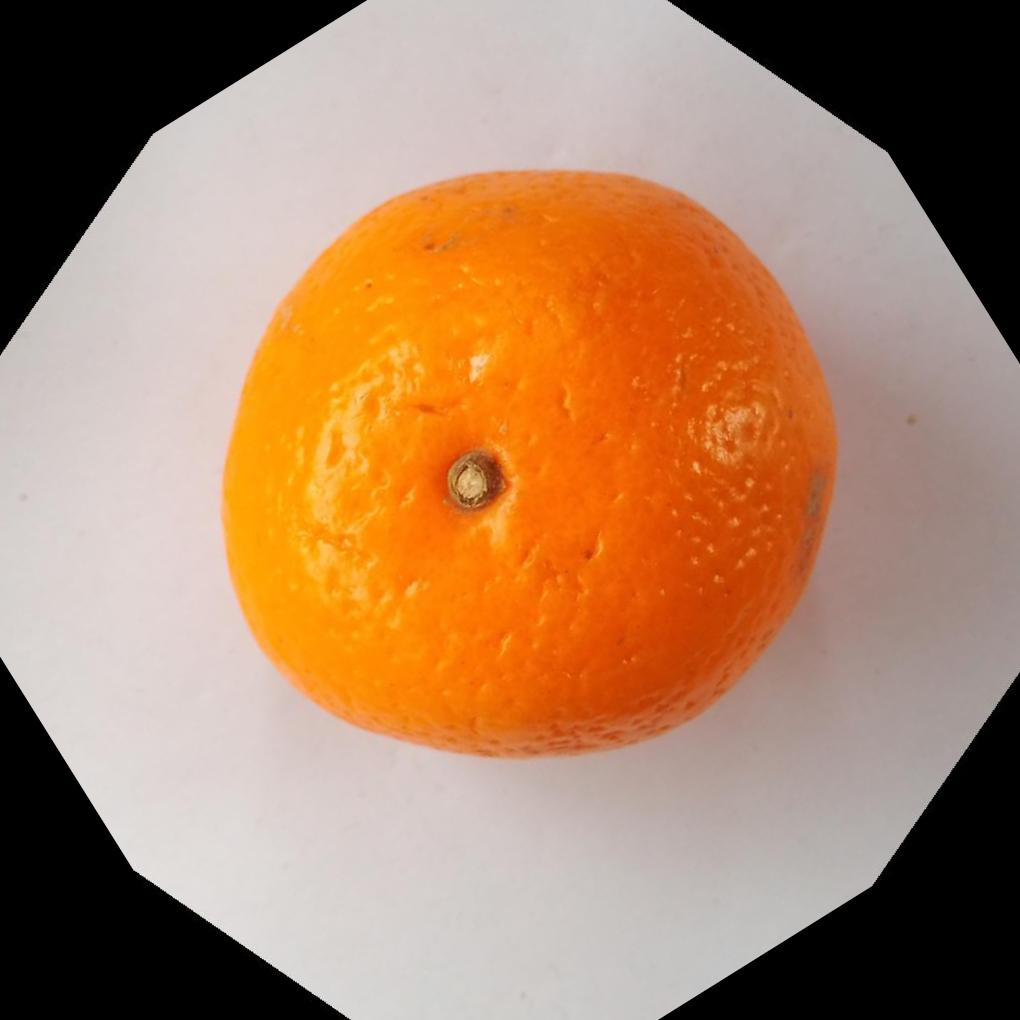FreshGuava: (220, 164, 844, 759)
